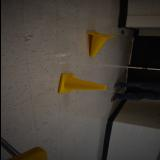cone: (57, 74, 107, 94), (84, 32, 114, 58)
